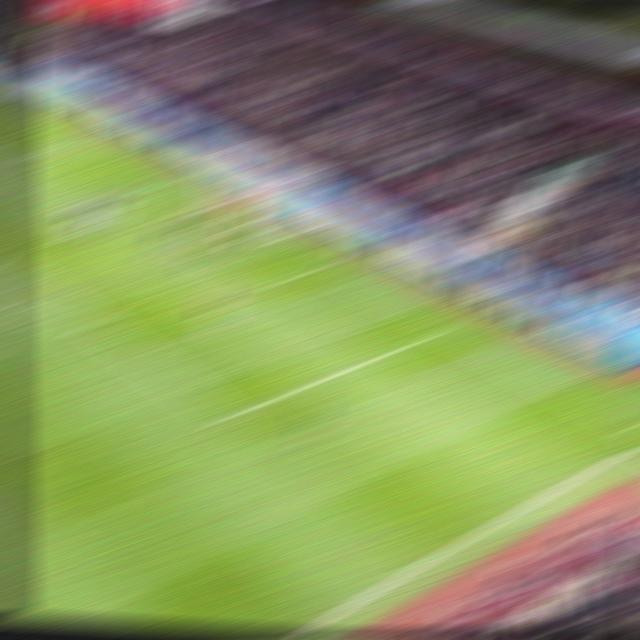bigarea_bottom_inner: (207, 405, 248, 427)
bigarea_bottom_outter: (430, 319, 466, 336)
bigarea_top_outter: (74, 136, 107, 147)
bottom_arc_area_intersection: (72, 313, 112, 333)
smallarea_bottom_inner: (244, 274, 283, 295)
smallarea_bottom_outter: (309, 258, 344, 271)
smallarea_top_inner: (92, 192, 126, 203)
smallarea_top_outter: (152, 175, 186, 189)
